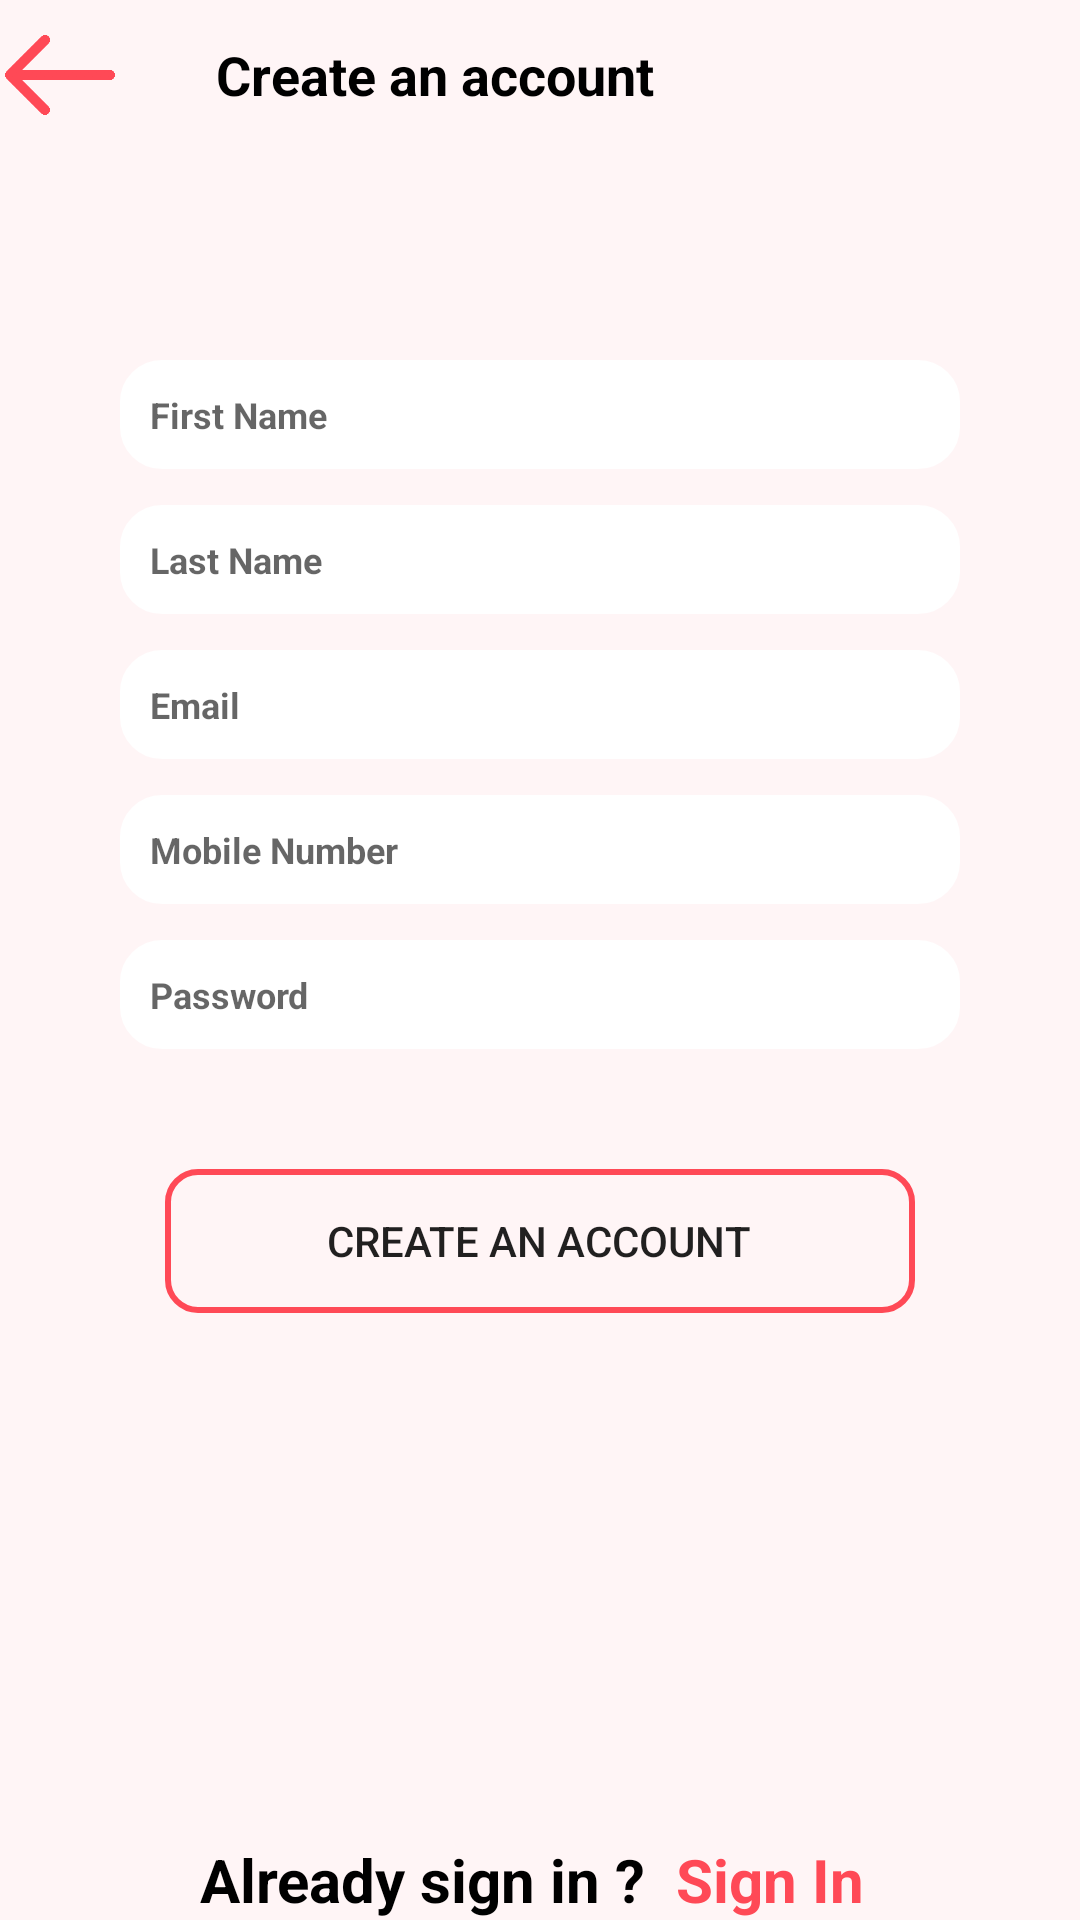

Where icons sit on this 1080x1920 app screen, as (x1, y1, x2, y2):
back arrow: (5, 35, 115, 115)
